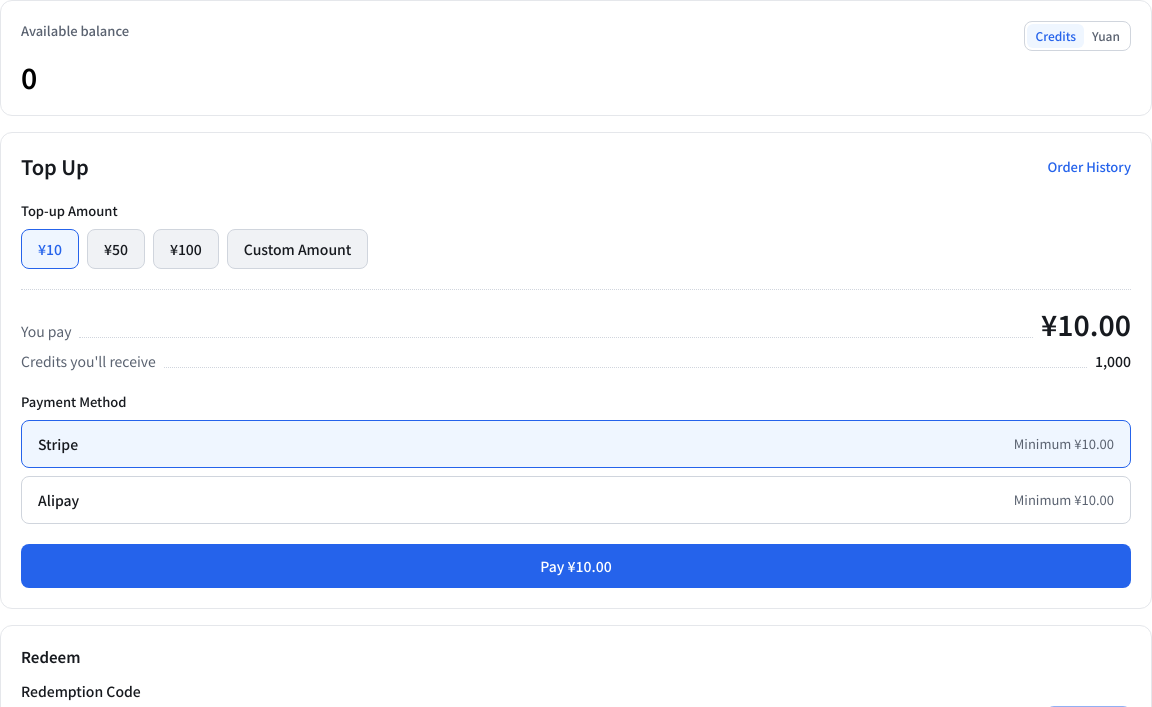
Test: TopupPage › renders amount chips, limits and providers from GET /api/topup/config
The width and height of the screenshot is (1152, 707).
Check: the radio button labelled "¥10" is shown, box [21,229,79,269]
Check: the radio button labelled "¥50" is shown, box [87,229,145,269]
Click the radio button labelled "Custom Amount".
click(298, 249)  # box [227,229,368,269]
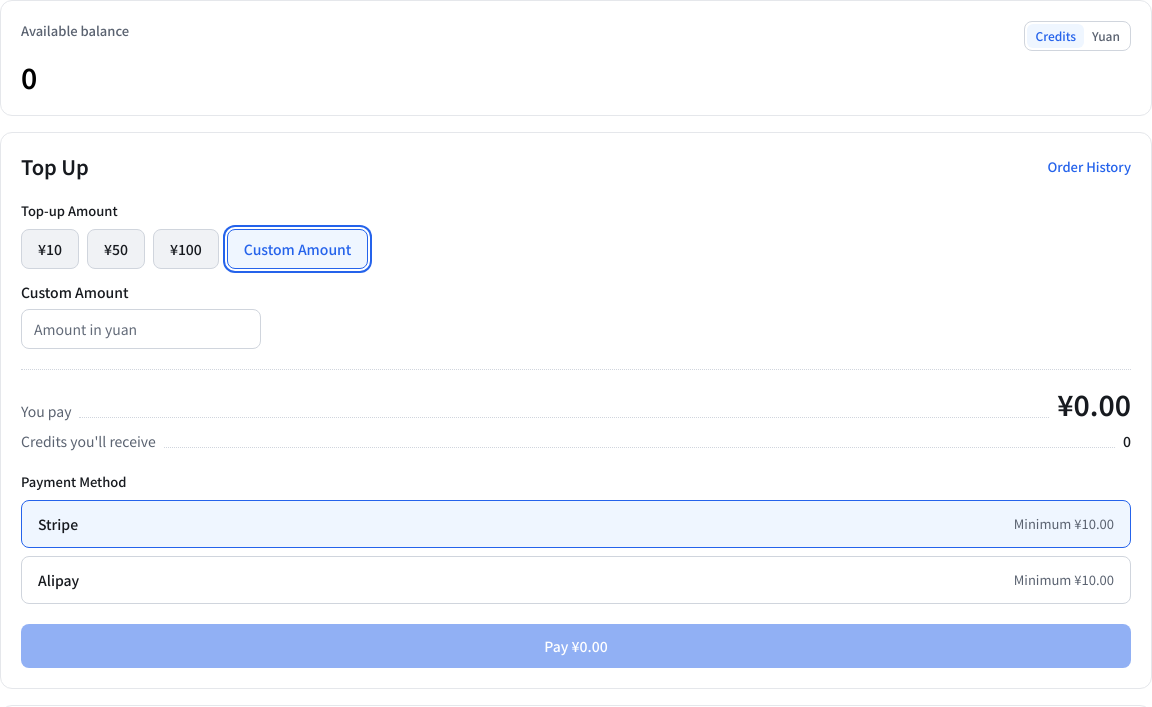
Type "5" into the field labelled "Custom Amount".
click(141, 329); type("5")  # box [21,309,261,349]
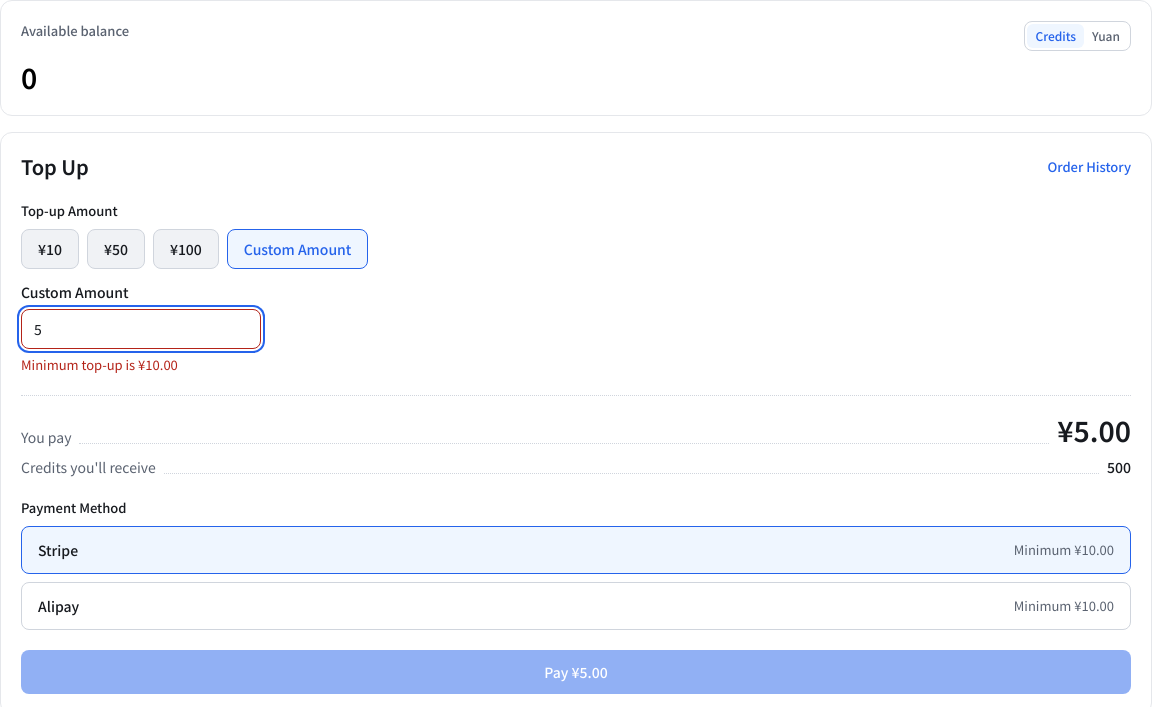
Check: the button "Pay ¥5.00" is disabled, box [21,650,1131,694]
Check: the text "Minimum top-up is ¥10.00" is shown, box [21,355,178,374]
Replace the text in the field labelled "Custom Amount" with "6000" at (141, 329), box [21,309,261,349]
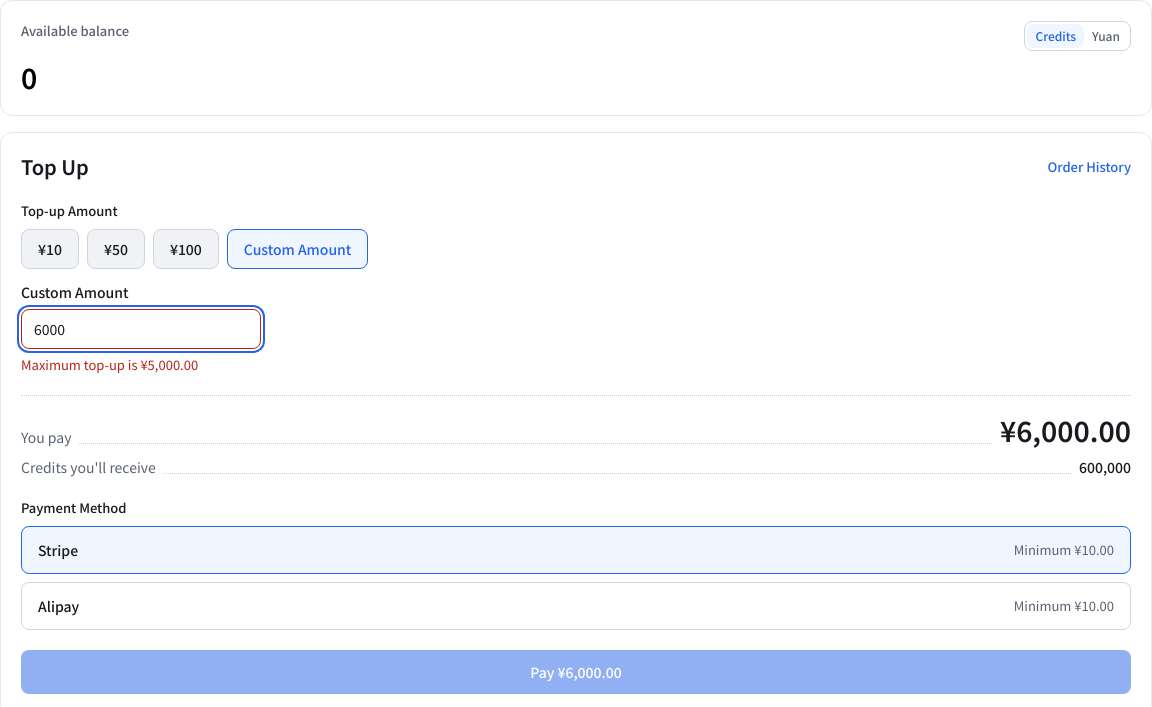
Check: the text "Maximum top-up is ¥5,000.00" is shown, box [21,355,198,374]
Replace the text in the field labelled "Custom Amount" with "100" at (141, 329), box [21,309,261,349]
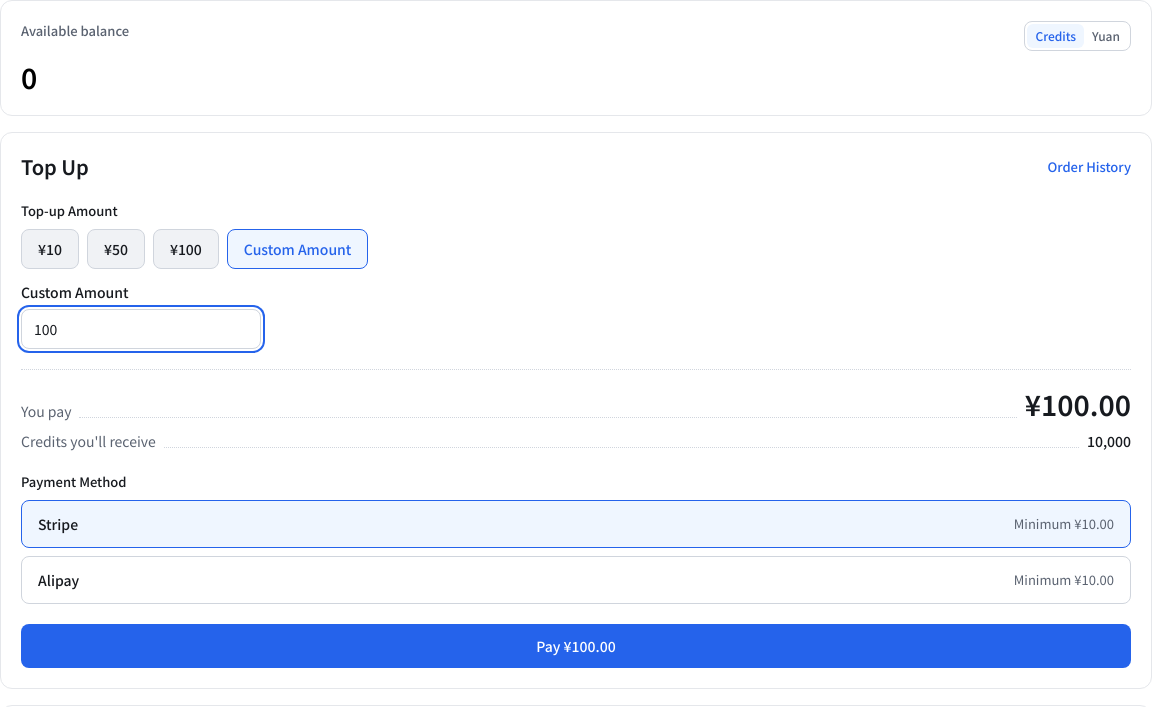
Check: the text with test id "summary-pay" reads "¥100.00", box [1025,384,1131,424]
Check: the text with test id "summary-credits" reads "10,000", box [1087,431,1131,451]
Check: the button "Pay ¥100.00" is shown, box [21,624,1131,668]
